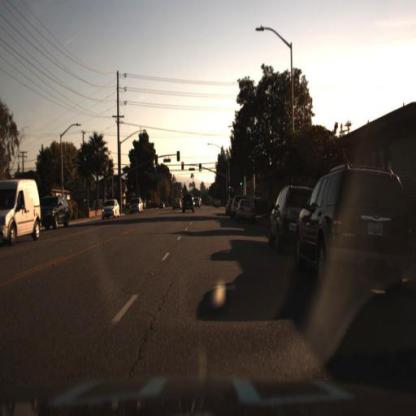car: (295, 162, 416, 298), (266, 183, 315, 259), (1, 179, 43, 249), (267, 175, 298, 263), (33, 194, 71, 230), (97, 197, 124, 227), (235, 196, 263, 224), (236, 196, 259, 230), (125, 193, 146, 221), (102, 201, 123, 219), (230, 192, 240, 224), (183, 194, 198, 214), (171, 195, 184, 216), (128, 195, 142, 213)
trafficLight-Green: (197, 164, 203, 176), (227, 184, 234, 194), (239, 180, 244, 192)
trafficLight-Red: (181, 160, 187, 172), (130, 180, 135, 193)
